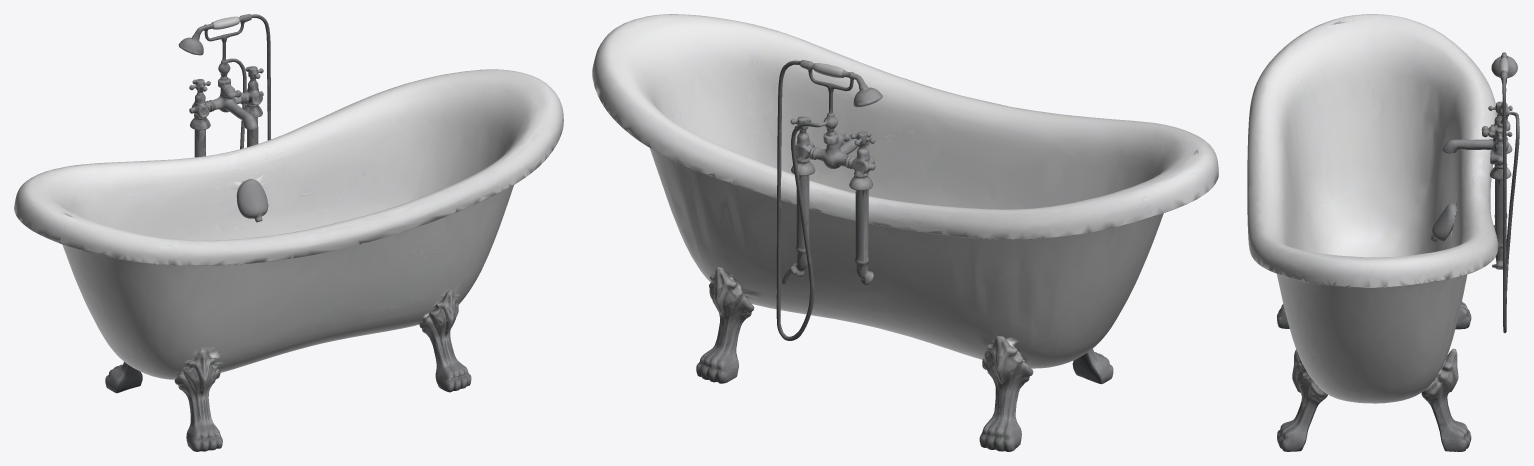
Rendered from badewanne-01.glb.
3 views of the same model, side by side, from view 1: azimuth 30°, elevation 25°; view 2: azimuth 150°, elevation 25°; view 3: azimuth 270°, elevation 25° (orthographic). The views are drawn at different scales.
Bounding box in the file's own units: 1.9 × 1.11 × 0.8471.
Materials: 1 (1 with a texture image).
